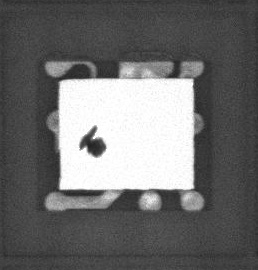DIE_INK: (75, 131, 102, 164)
